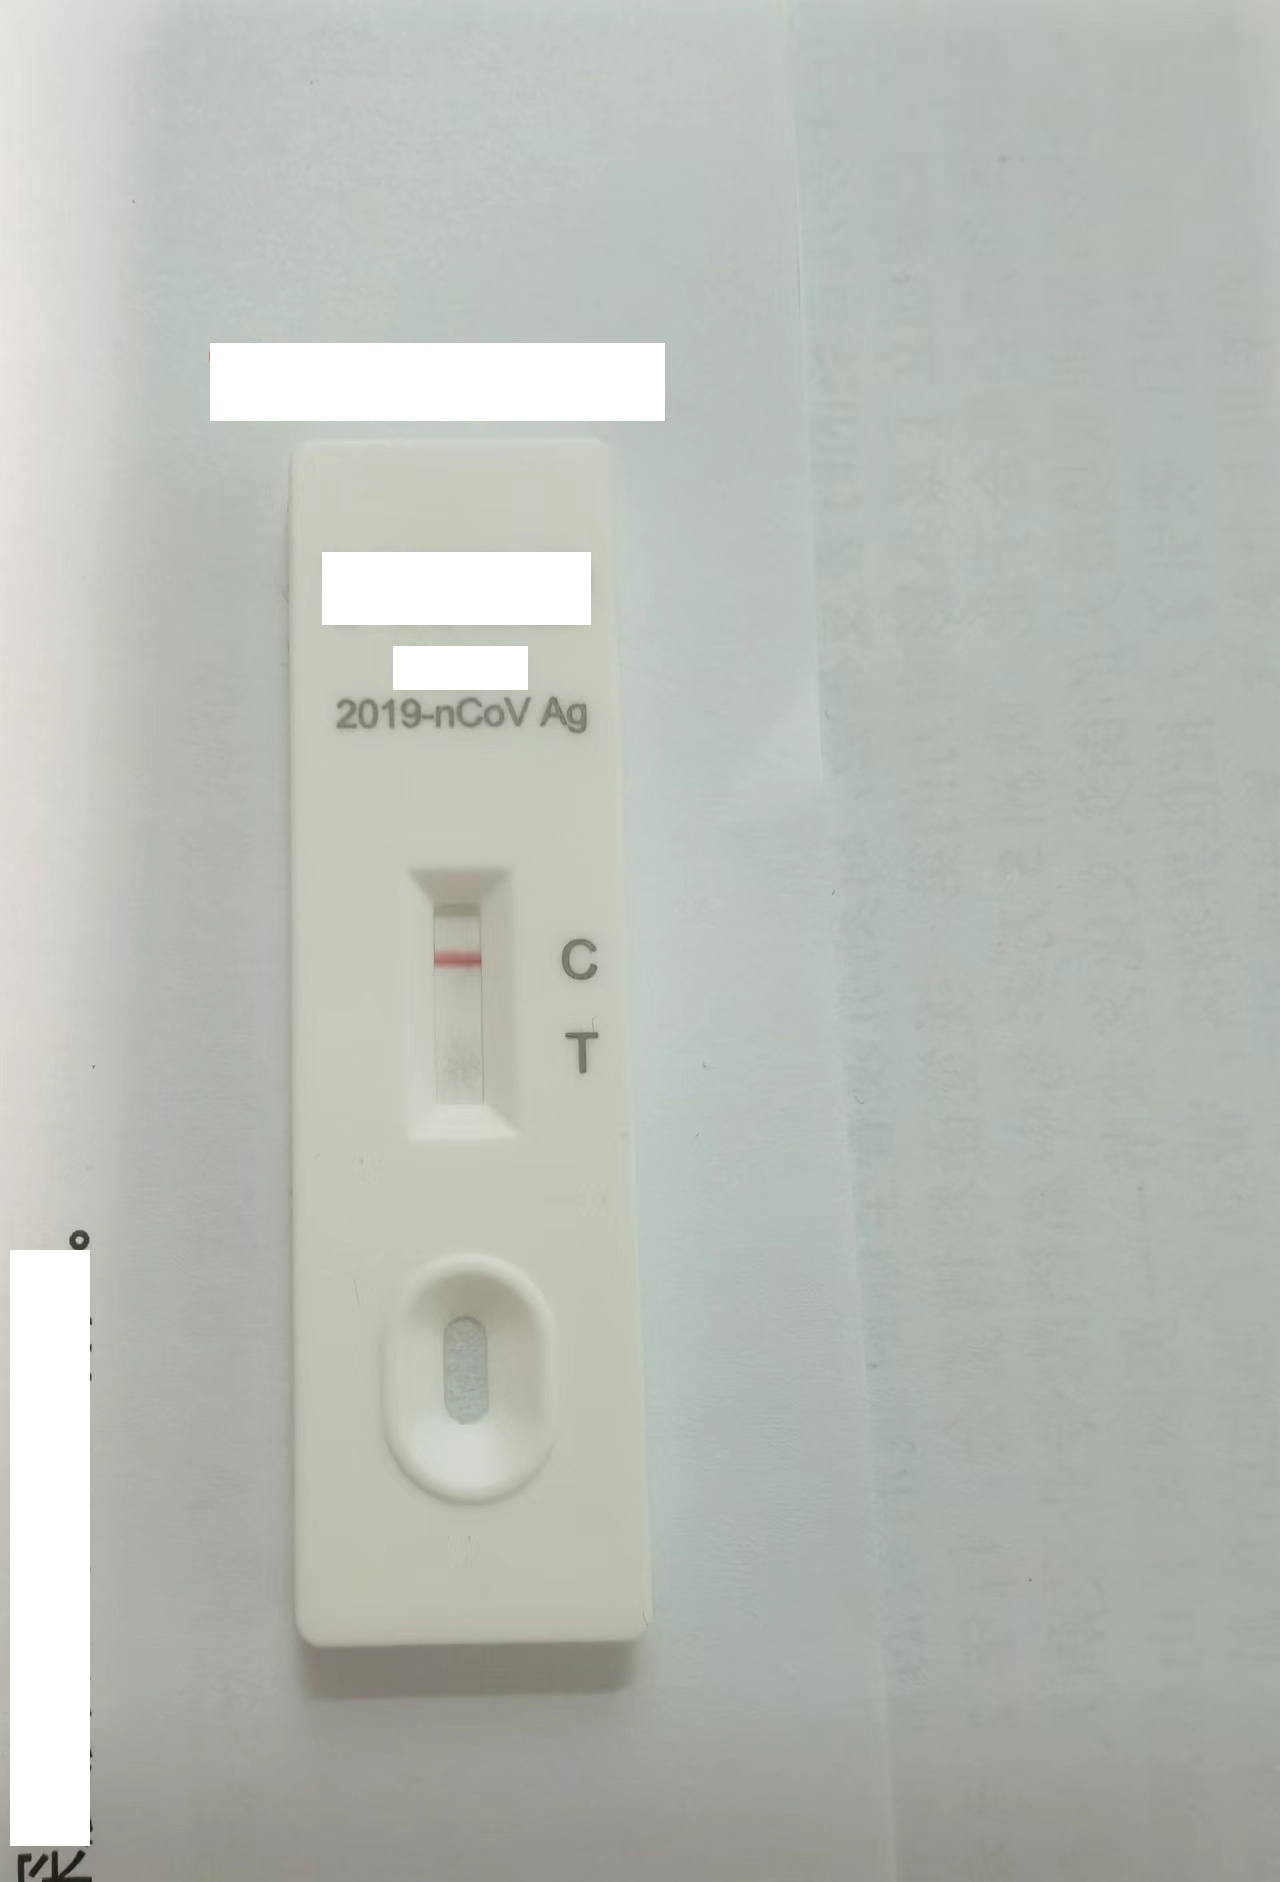negative: (409, 860, 516, 1137)
